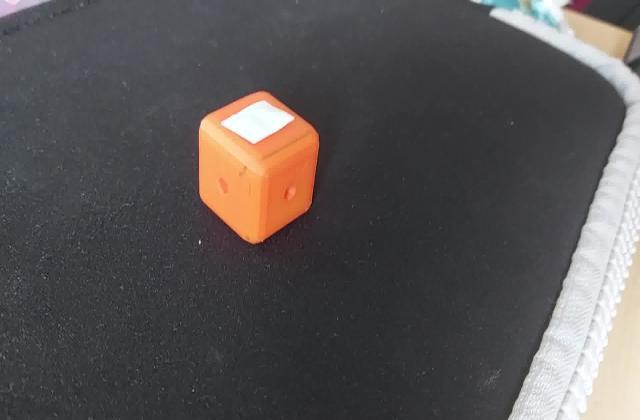cube: (190, 82, 320, 246)
white: (220, 106, 286, 148)
